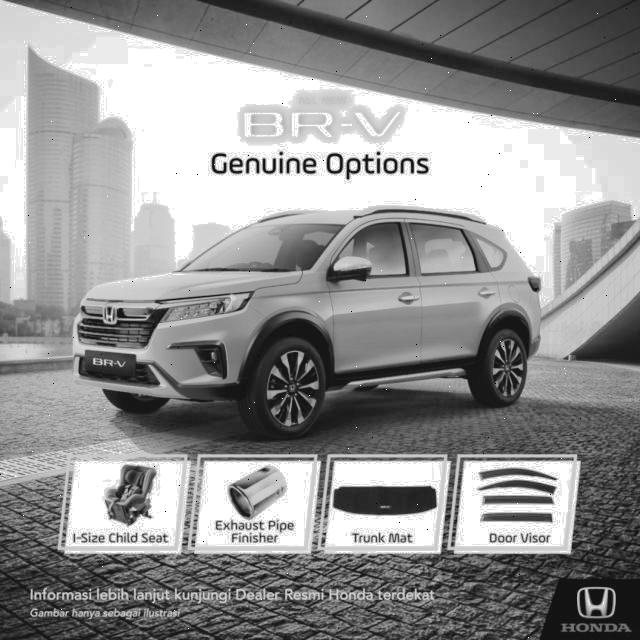Car: (68, 203, 552, 416)
